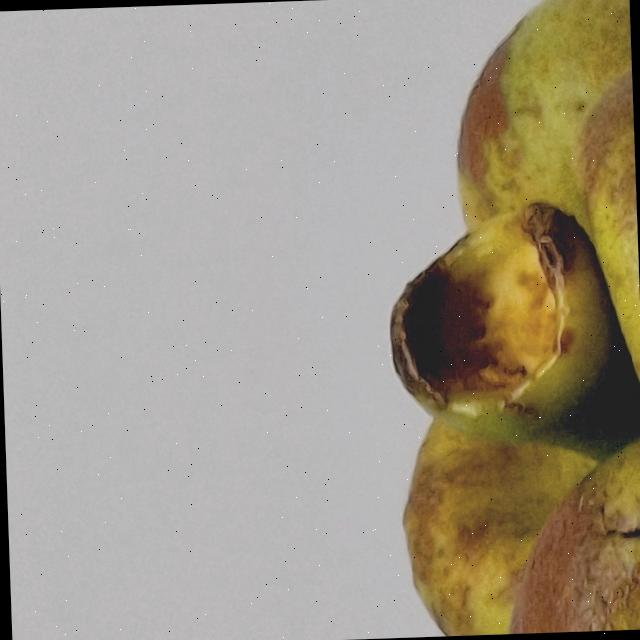mangosteen: (359, 0, 640, 638)
